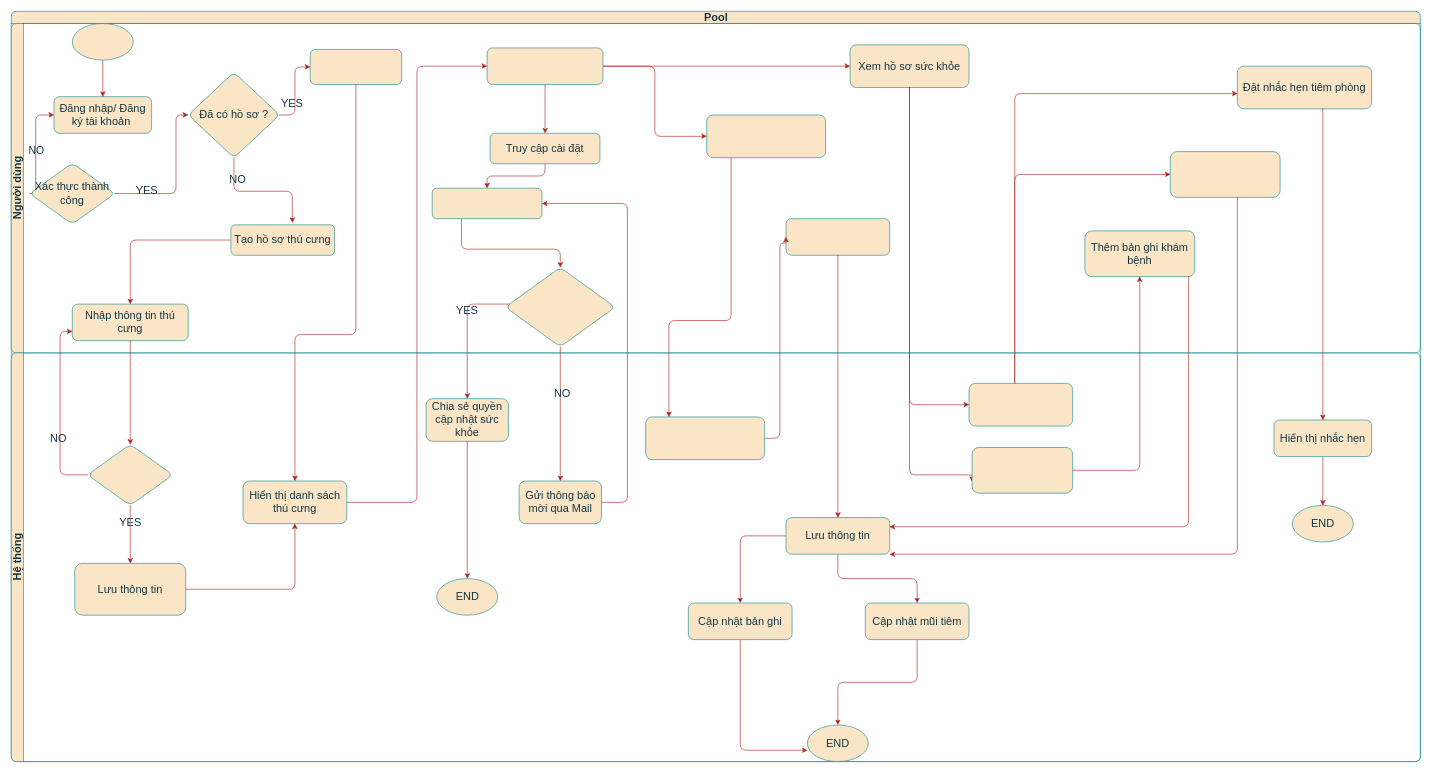
Image size: 1431x772. Some labels were removed from this diagram. The centre of each missing label's shape, as x and y in pixels:
Caretaker có tài khoản ?: the point at 560,307
Chọn thú cưng: the point at 544,65
Cập nhật chỉ số: the point at 837,236
Hiển thị chỉ số sức khỏe thú cưng: the point at 705,438
Hiển thị lịch sử bản ghi khám bệnh: the point at 1022,470
Hiển thị lịch sử tiêm phòng: the point at 1020,404
START: the point at 102,41
Thêm quyền truy cập: the point at 487,203
Thêm thông tin mũi tiêm: the point at 1225,174
Thông tin hợp lệ: the point at 130,474
Xem dashboard tổng hợp chỉ số: the point at 766,136
Xem hồ sơ thú cưng: the point at 356,66
